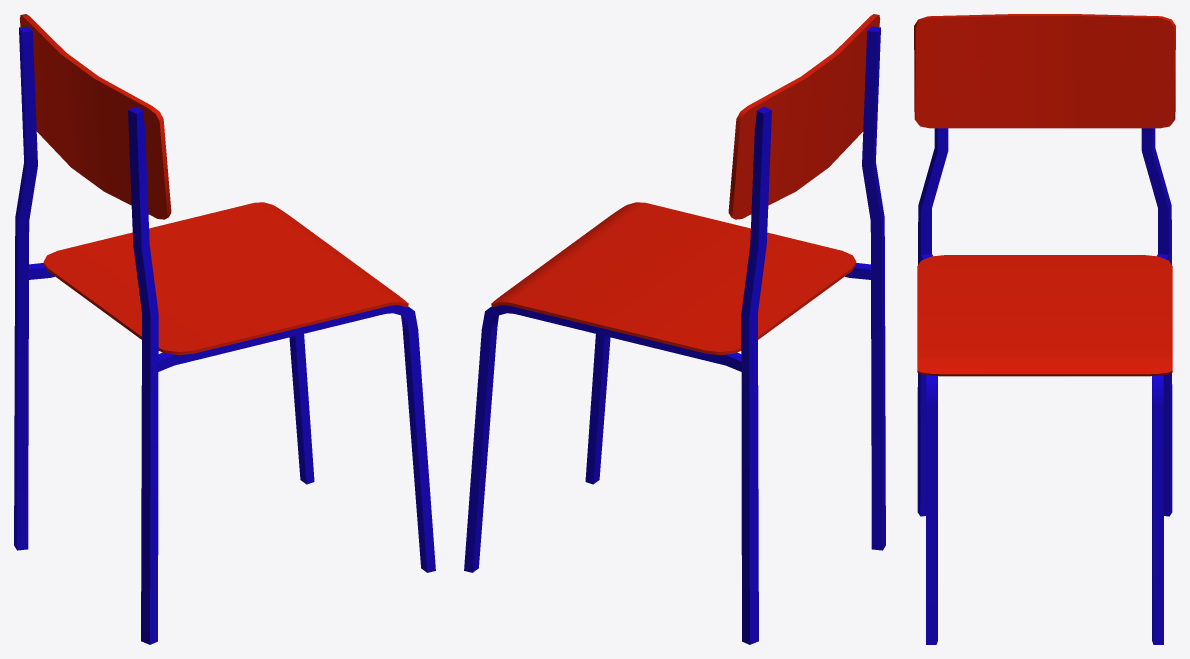
Rendered from chair_a.fbx.
3 views of the same model, side by side, from view 1: azimuth 30°, elevation 25°; view 2: azimuth 150°, elevation 25°; view 3: azimuth 270°, elevation 25° (orthographic). The views are drawn at different scales.
Parts seen in each view (by area): view 1: Plane.006; view 2: Plane.006; view 3: Plane.006.
Boxes of the visible parts, left/top/right/bottom form: Plane.006: left=14, top=14, right=435, bottom=644; Plane.006: left=464, top=14, right=885, bottom=644; Plane.006: left=914, top=14, right=1175, bottom=644.
Size of the model in its own units: 268 by 459 by 218.
